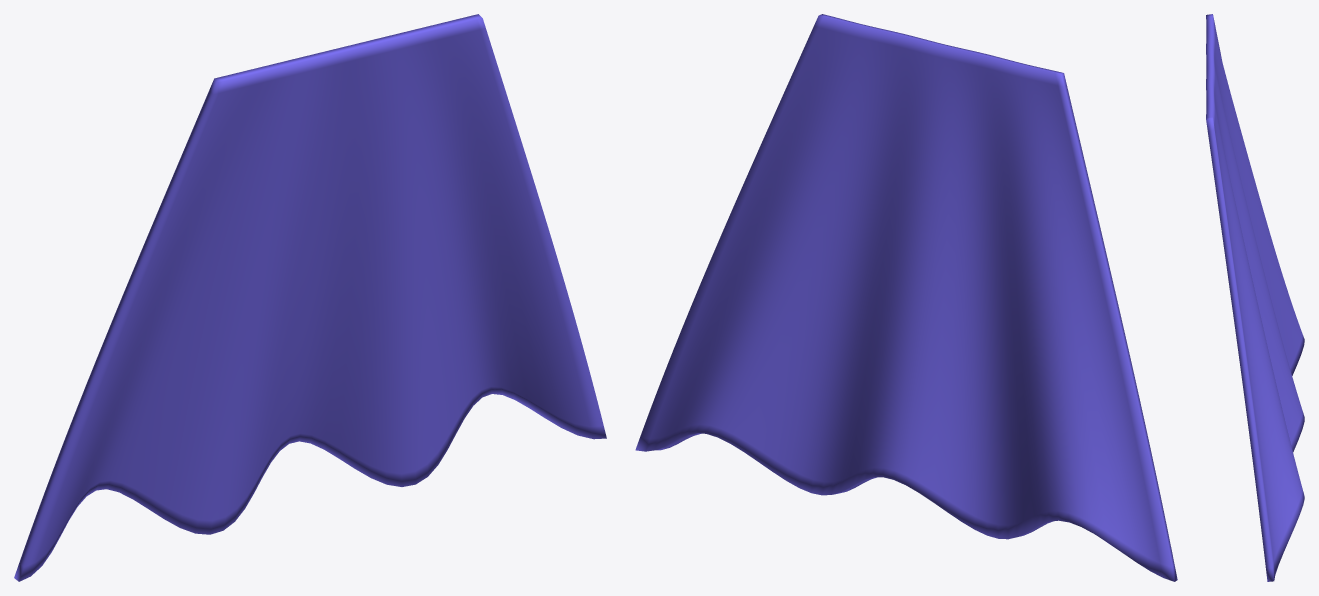
The model's file is squire_cape.glb.
The picture shows the model from 3 angles, left to right: view 1: azimuth 30°, elevation 25°; view 2: azimuth 150°, elevation 25°; view 3: azimuth 270°, elevation 25°; orthographic projection. The views are drawn at different scales.
Visible parts, largest first — view 1: squire_cape__cloth; view 2: squire_cape__cloth; view 3: squire_cape__cloth.
Boxes of the visible parts, left/top/right/bottom form: squire_cape__cloth: left=14, top=14, right=606, bottom=581; squire_cape__cloth: left=635, top=14, right=1177, bottom=581; squire_cape__cloth: left=1206, top=14, right=1304, bottom=581.
Bounding box in the file's own units: 1.45 × 1.15 × 0.2577.
